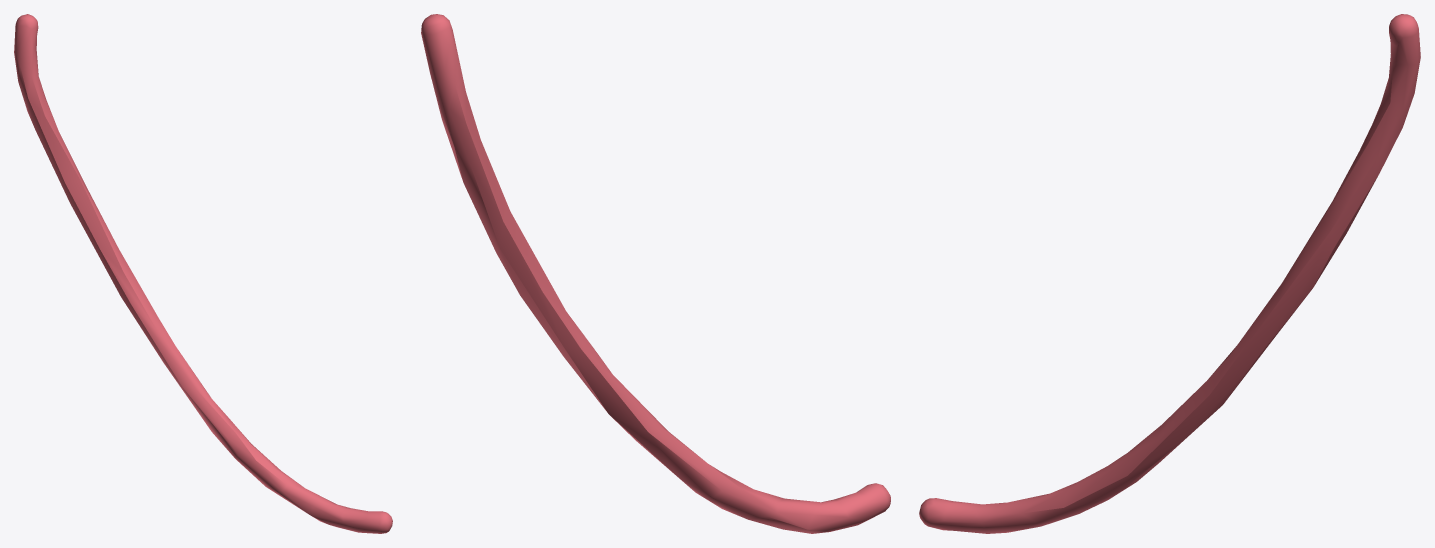
Rendered from fma22804_fj2293.glb.
3 renders of one model, left to right at view 1: azimuth 90°, elevation 25°; view 2: azimuth 150°, elevation 25°; view 3: azimuth 270°, elevation 25°, orthographic. The views are drawn at different scales.
Parts seen in each view (by area): view 1: FMA22804_FJ2293; view 2: FMA22804_FJ2293; view 3: FMA22804_FJ2293.
Boxes of the visible parts, x1=… form: FMA22804_FJ2293: x1=14, y1=14, x2=392, y2=533; FMA22804_FJ2293: x1=421, y1=14, x2=890, y2=533; FMA22804_FJ2293: x1=919, y1=14, x2=1420, y2=533.
Bounding box in the file's own units: 0.00763 × 0.0214 × 0.0162.
